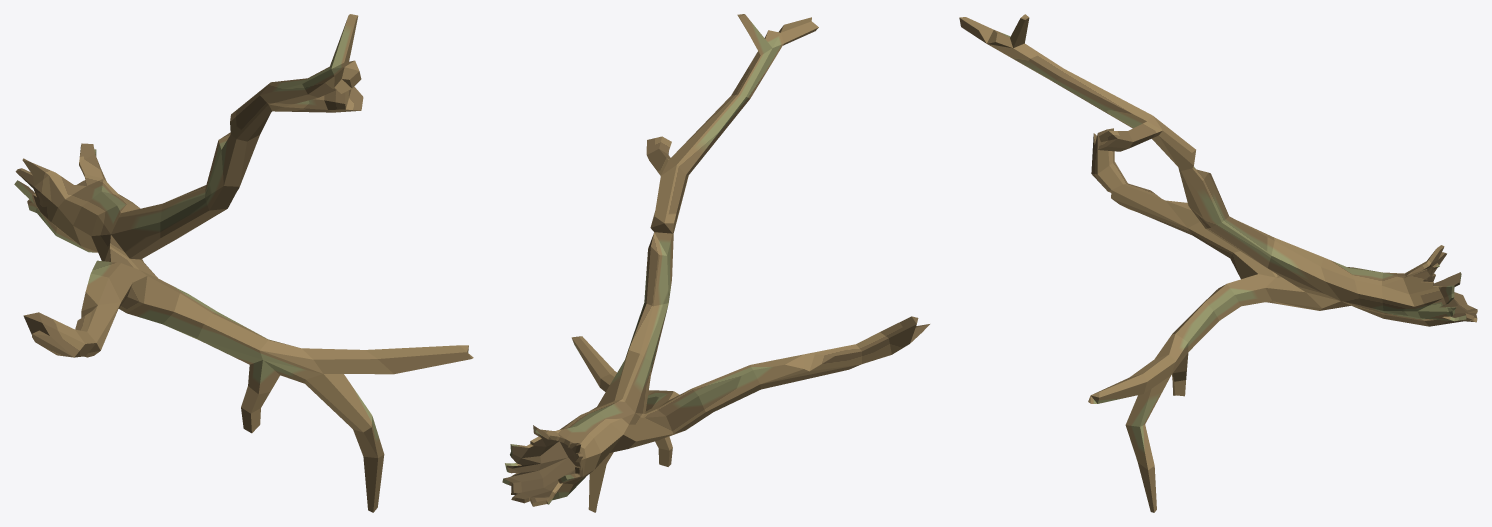
Rendered from SM_Prop_Swamp_Log_03.fbx.
3 renders of one model, left to right at view 1: azimuth 30°, elevation 25°; view 2: azimuth 150°, elevation 25°; view 3: azimuth 270°, elevation 25°, orthographic. The views are drawn at different scales.
Parts seen in each view (by area): view 1: SM_Prop_Swamp_Log_03; view 2: SM_Prop_Swamp_Log_03; view 3: SM_Prop_Swamp_Log_03.
Part boxes in pixels (box(x1,y1,x2,y2)): SM_Prop_Swamp_Log_03: box(14, 14, 473, 512); SM_Prop_Swamp_Log_03: box(502, 14, 929, 512); SM_Prop_Swamp_Log_03: box(959, 14, 1477, 512).
Bounding box in the file's own units: 539 × 681 × 699.
Materials: 1 (1 with a texture image).
